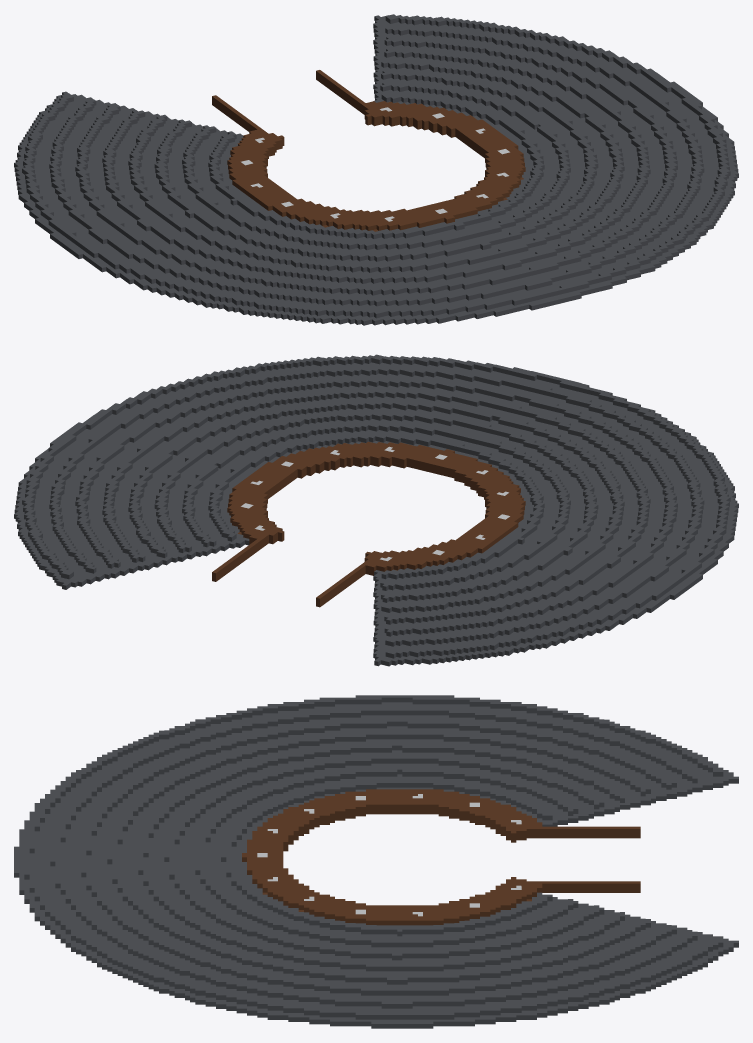
Rendered from ch_chainmail_aventail.glb.
3 renders of one model, top to bottom at view 1: azimuth 30°, elevation 25°; view 2: azimuth 150°, elevation 25°; view 3: azimuth 270°, elevation 25°, orthographic. The views are drawn at different scales.
Visible parts, largest first — view 1: ch_chainmail_aventail:compound; view 2: ch_chainmail_aventail:compound; view 3: ch_chainmail_aventail:compound.
Part boxes in pixels (x1=…): ch_chainmail_aventail:compound: x1=14, y1=14, x2=738, y2=325; ch_chainmail_aventail:compound: x1=14, y1=354, x2=738, y2=666; ch_chainmail_aventail:compound: x1=14, y1=695, x2=738, y2=1028.
Size of the model in its own units: 0.6 by 0.008 by 0.56.
